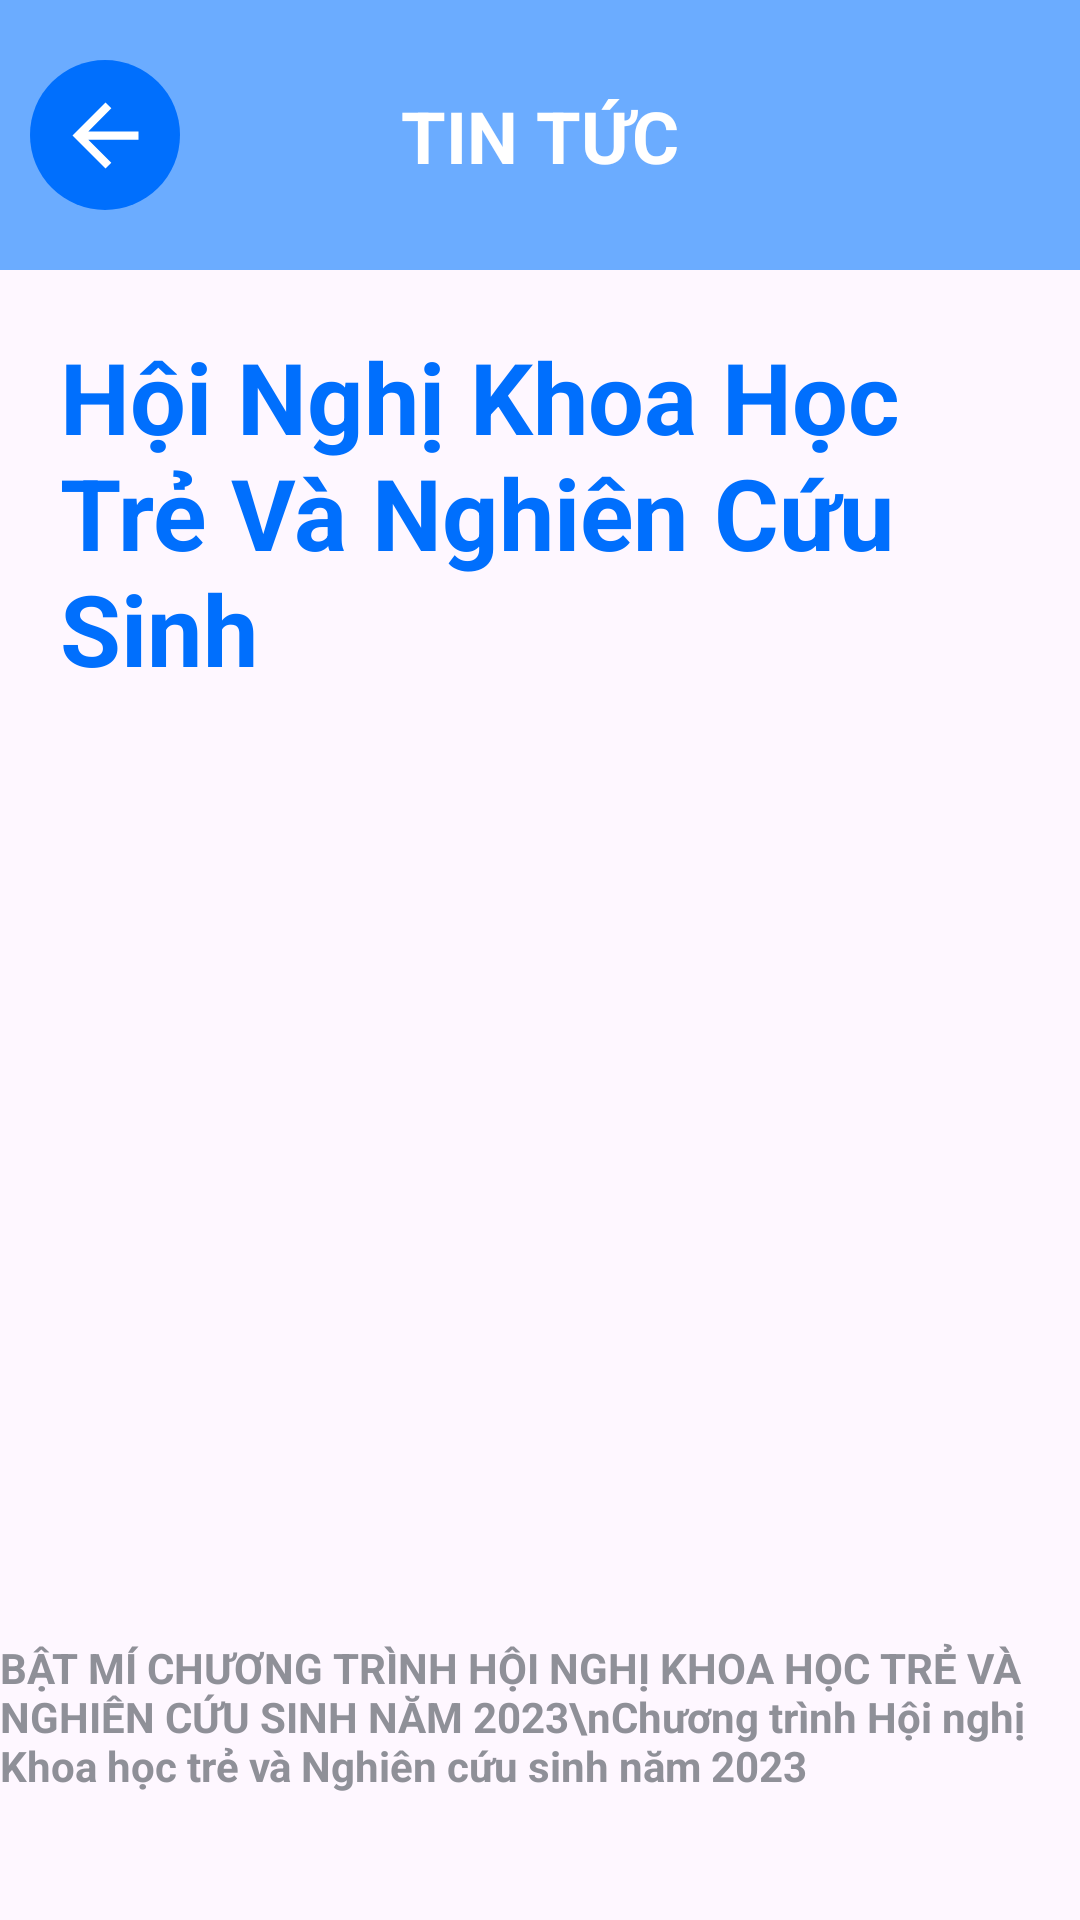

Where to tap for icons on this 1080x1920 app screen, as [x,y]:
arrow back: [105,135]
